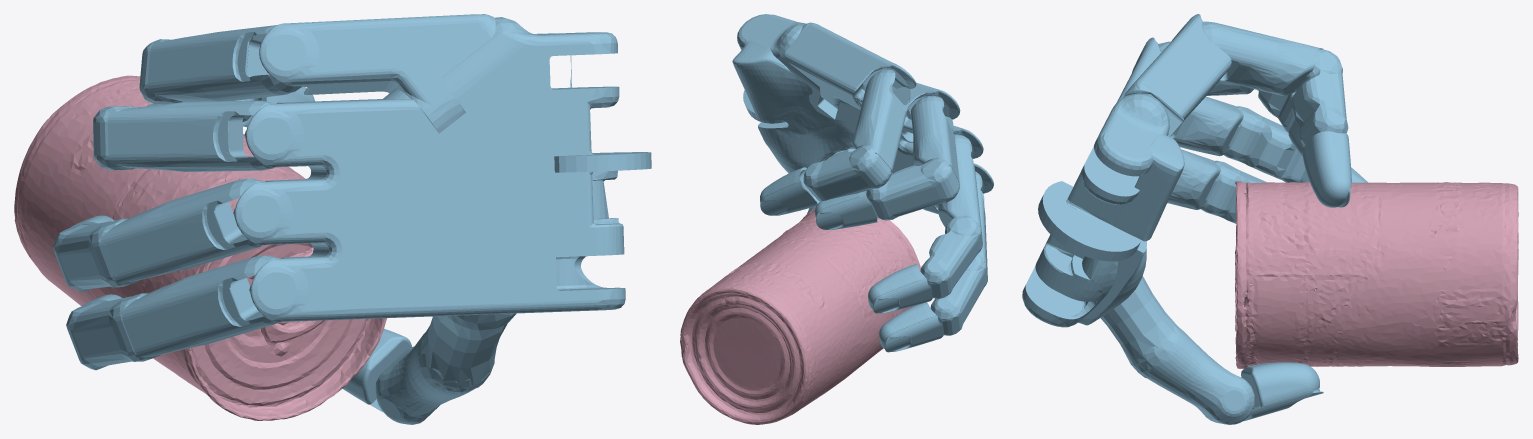
3 views of the same model, side by side, from view 1: azimuth 30°, elevation 25°; view 2: azimuth 150°, elevation 25°; view 3: azimuth 270°, elevation 25° (orthographic). The views are drawn at different scales.
Parts seen in each view (by area): view 1: world; view 2: world; view 3: world.
Boxes of the visible parts, x1,y1,x2,y2 form: world: (14,14,651,424); world: (680,14,993,424); world: (1022,14,1518,424).
Size of the model in its own units: 0.1489 by 0.1394 by 0.1782.
